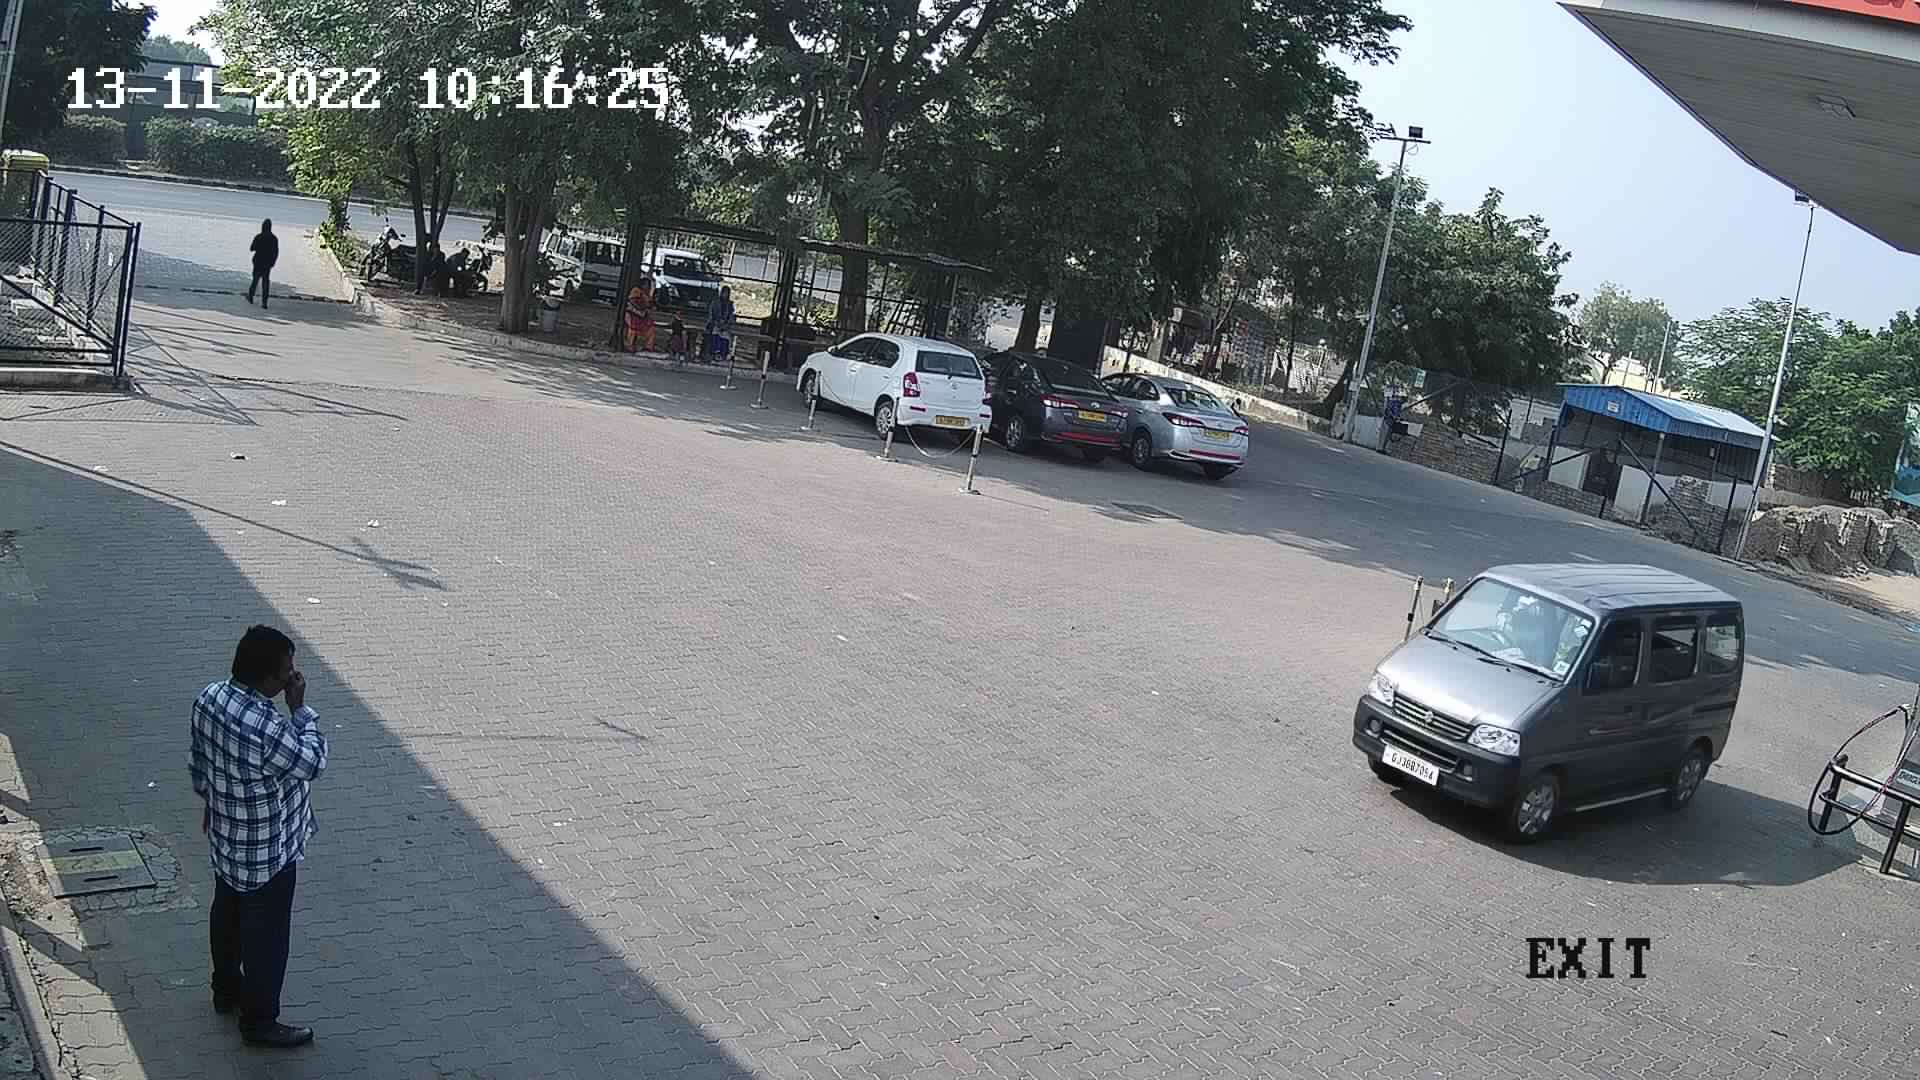Auto: (3, 132, 61, 237)
Bike: (353, 214, 419, 299), (454, 237, 498, 299)
Car: (1346, 546, 1762, 840), (793, 319, 1006, 447), (1084, 355, 1254, 485), (977, 342, 1143, 468), (633, 233, 738, 324), (530, 215, 630, 307)
